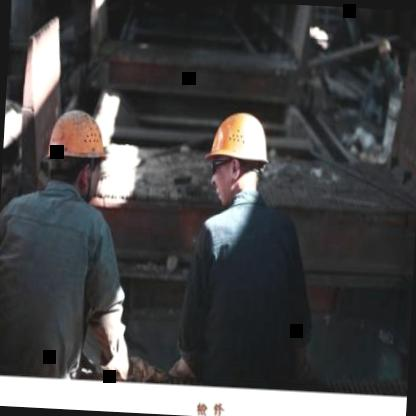helmet: (199, 100, 274, 215), (41, 100, 113, 202)
